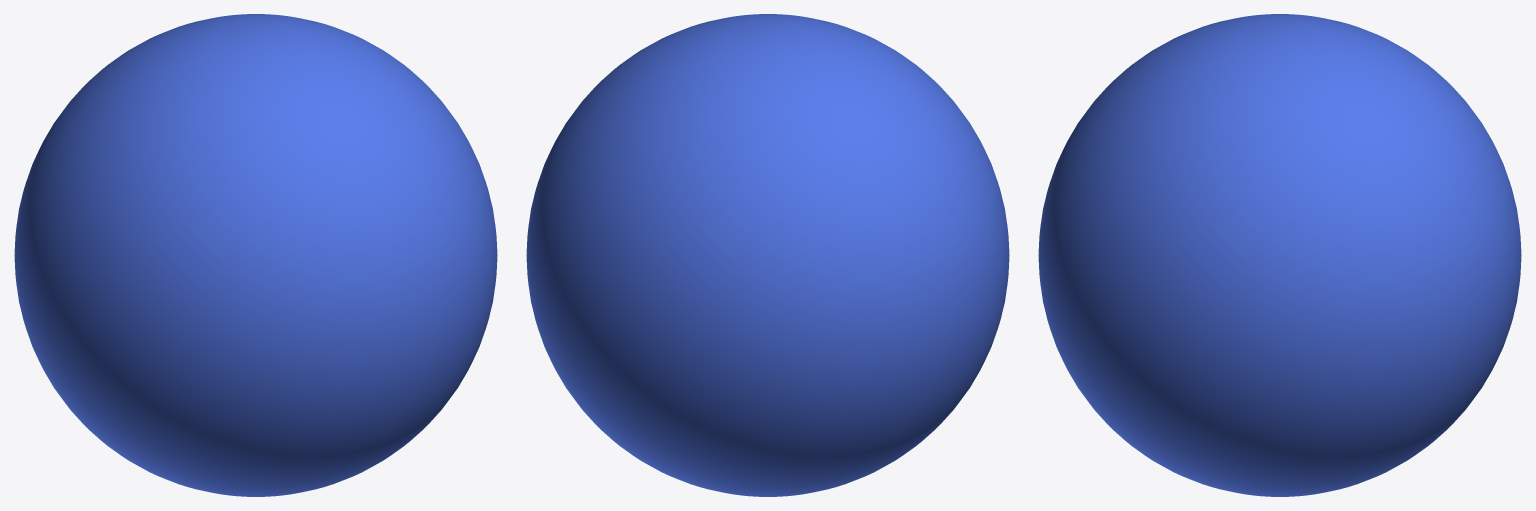
The picture shows the model from 3 angles, left to right: view 1: azimuth 30°, elevation 25°; view 2: azimuth 150°, elevation 25°; view 3: azimuth 270°, elevation 25°; orthographic projection.
Parts seen in each view (by area): view 1: Сфера; view 2: Сфера; view 3: Сфера.
Boxes of the visible parts, box(x1,y1,x2,y2) form: Сфера: box(14, 14, 497, 496); Сфера: box(526, 14, 1009, 496); Сфера: box(1038, 14, 1521, 496).
Bounding box in the file's own units: 200 × 200 × 200.
